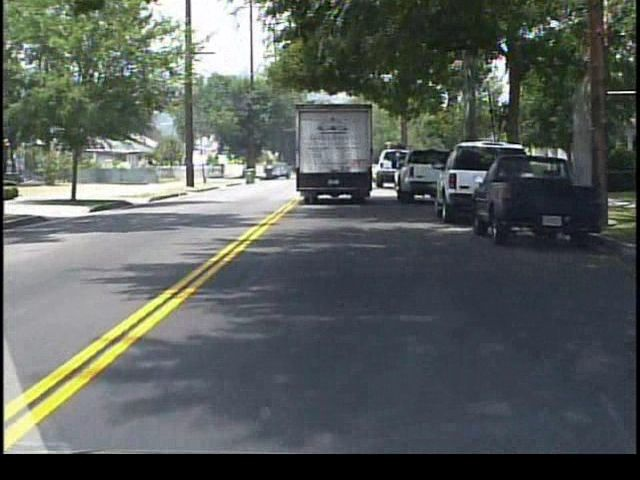person: (220, 163, 227, 182)
